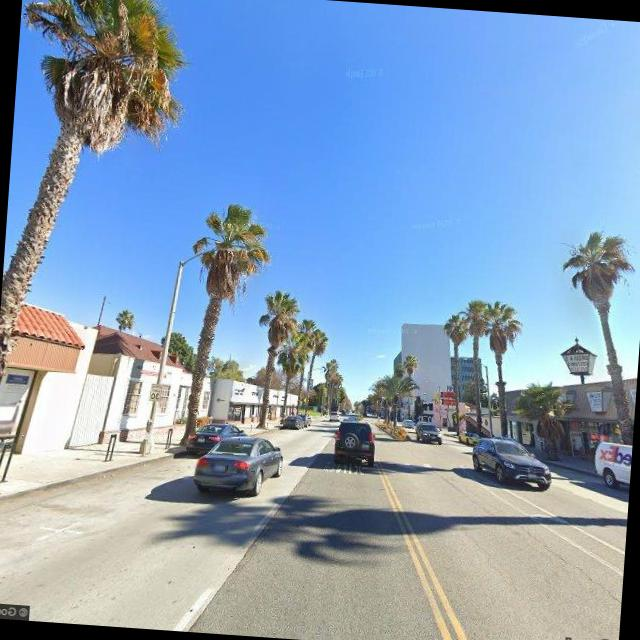pothole: (515, 522, 626, 622)
